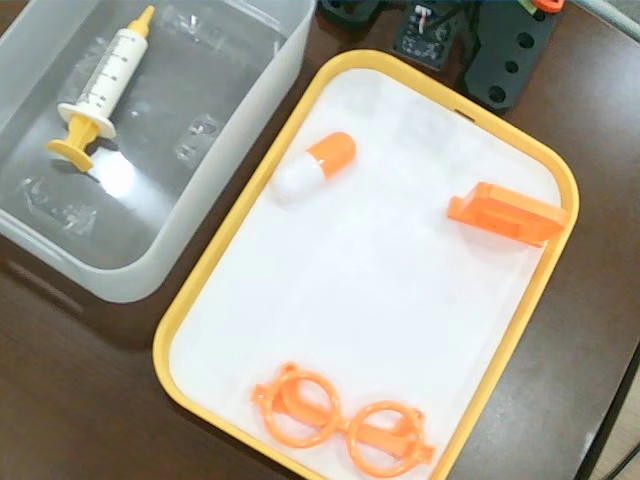pill: (269, 132, 358, 205)
syringe: (47, 5, 155, 173)
